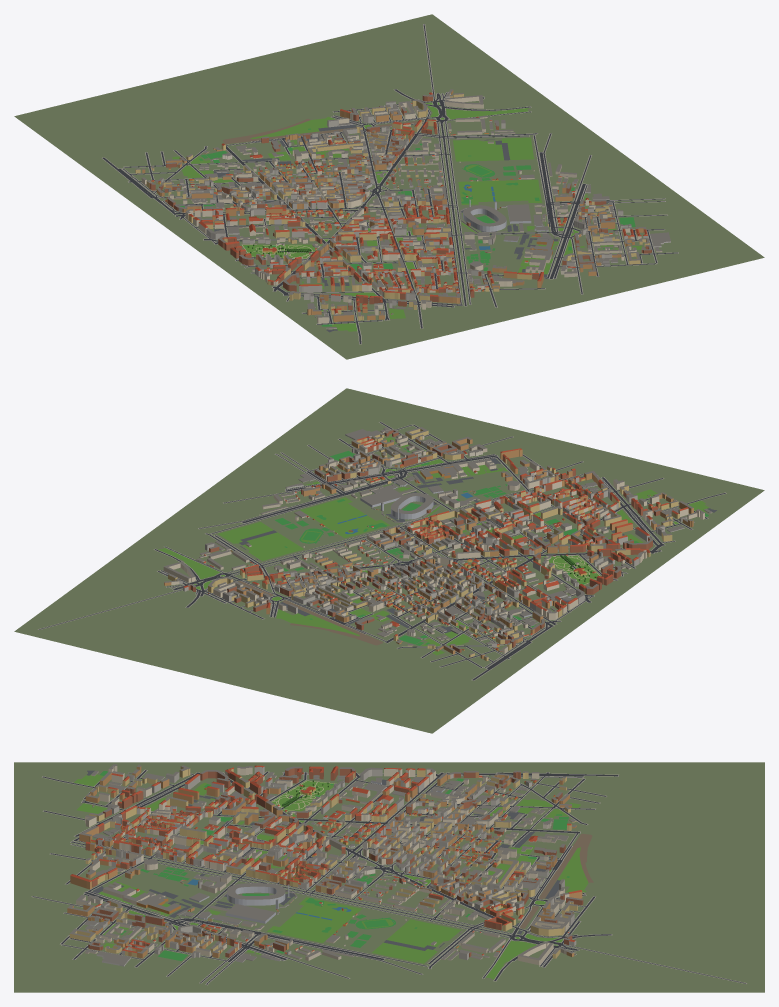
The model's file is santa_rita.glb.
The picture shows the model from 3 angles, top to bottom: view 1: azimuth 30°, elevation 25°; view 2: azimuth 150°, elevation 25°; view 3: azimuth 270°, elevation 25°; orthographic projection. The views are drawn at different scales.
Parts seen in each view (by area): view 1: Ground, Areas_8_4, Areas_7_6, Buildings_6_2, Buildings_4_4, Buildings_3_3, Buildings_4_6, Buildings_2_4, Buildings_6_3, Buildings_4_3, Buildings_5_3, Buildings_8_8 (+34 smaller); view 2: Ground, Areas_8_4, Areas_7_6, Buildings_6_2, Buildings_4_4, Buildings_6_3, Buildings_3_3, Buildings_4_6, Buildings_5_3, Buildings_8_8, Buildings_4_8, Buildings_4_3 (+37 smaller); view 3: Ground, Areas_8_4, Areas_7_6, Buildings_6_2, Buildings_4_4, Buildings_2_4, Buildings_6_3, Buildings_4_8, Buildings_4_3, Buildings_3_3, Buildings_5_6, Buildings_3_8 (+58 smaller).
Boxes of the visible parts, x1,y1,x2,y2 form: Ground: (14,14,764,359); Areas_8_4: (453,137,534,161); Areas_7_6: (458,179,541,204); Buildings_6_2: (317,125,387,154); Buildings_4_4: (284,185,344,217); Buildings_3_3: (203,177,276,206); Buildings_4_6: (333,219,403,253); Buildings_2_4: (188,205,245,239); Buildings_6_3: (341,142,414,174); Buildings_4_3: (250,168,322,199); Buildings_5_3: (297,157,365,185); Buildings_8_8: (572,215,641,247); Ground: (14,388,764,733); Areas_8_4: (218,522,303,560); Areas_7_6: (300,497,390,538); Buildings_6_2: (280,579,352,610); Buildings_4_4: (423,561,492,591); Buildings_6_3: (308,561,378,593); Buildings_3_3: (445,591,510,628); Buildings_4_6: (476,522,537,555); Buildings_5_3: (354,571,421,604); Buildings_8_8: (345,438,414,471); Buildings_4_8: (527,488,600,517); Buildings_4_3: (401,583,468,616); Ground: (14,762,764,992); Areas_8_4: (372,919,460,963); Areas_7_6: (267,897,361,942); Buildings_6_2: (483,863,545,904); Buildings_4_4: (363,819,427,852); Buildings_2_4: (360,767,428,799); Buildings_6_3: (420,869,488,901); Buildings_4_8: (124,818,189,849); Buildings_4_3: (419,819,490,850); Buildings_3_3: (424,793,487,826); Buildings_5_6: (244,844,308,875); Buildings_3_8: (122,790,193,824).
Bounding box in the file's own units: 2270 × 57 × 3126.
